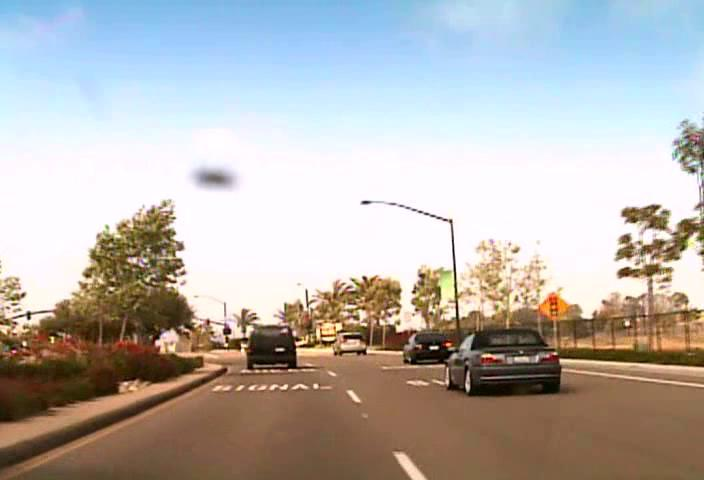signalAhead: (537, 291, 569, 321)
